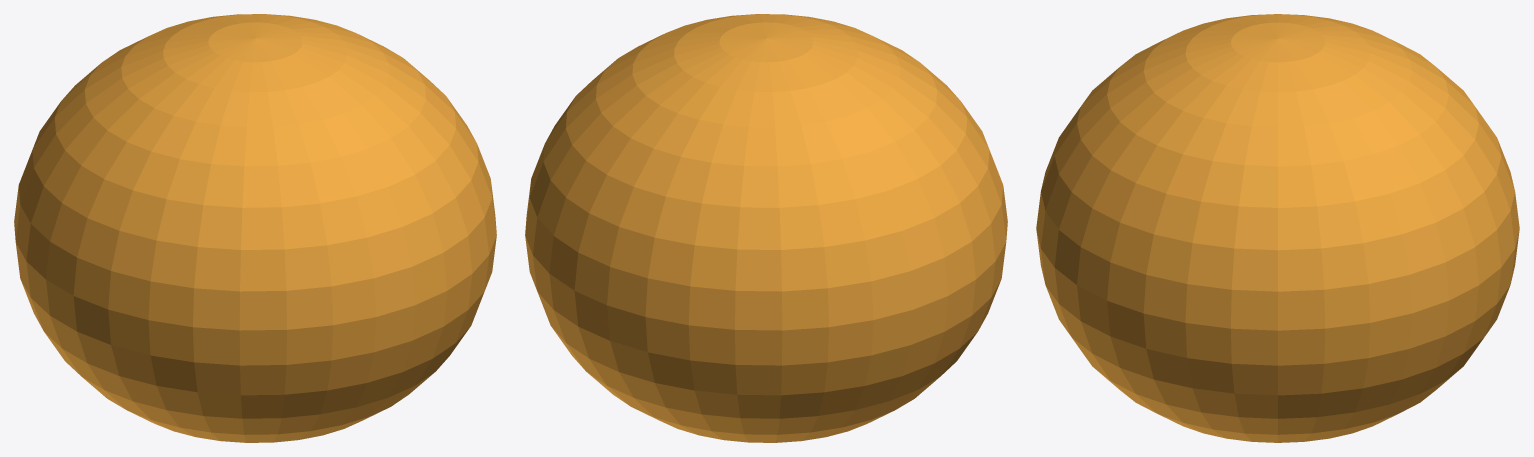
3 renders of one model, left to right at view 1: azimuth 30°, elevation 25°; view 2: azimuth 150°, elevation 25°; view 3: azimuth 270°, elevation 25°, orthographic.
Parts seen in each view (by area): view 1: Sphere; view 2: Sphere; view 3: Sphere.
Boxes of the visible parts, box(x1,y1,x2,y2) form: Sphere: box(14, 14, 496, 442); Sphere: box(525, 14, 1007, 442); Sphere: box(1036, 14, 1519, 442).
Size of the model in its own units: 200 by 173 by 200.
